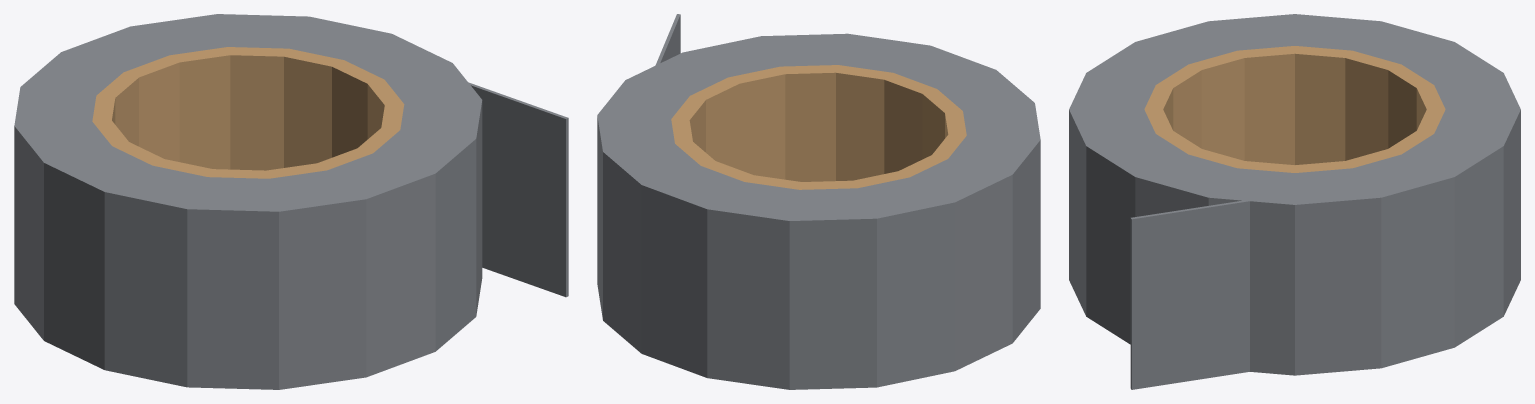
Rendered from duct-tape.glb.
The picture shows the model from 3 angles, left to right: view 1: azimuth 30°, elevation 25°; view 2: azimuth 150°, elevation 25°; view 3: azimuth 270°, elevation 25°; orthographic projection. The views are drawn at different scales.
Parts seen in each view (by area): view 1: duct_tape; view 2: duct_tape; view 3: duct_tape.
Part boxes in pixels (x1=…): duct_tape: x1=14, y1=14, x2=568, y2=389; duct_tape: x1=597, y1=14, x2=1040, y2=389; duct_tape: x1=1069, y1=14, x2=1520, y2=389.
Bounding box in the file's own units: 0.129 × 0.05 × 0.12.
